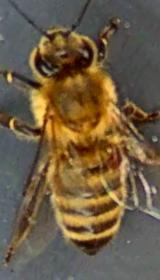varroa_mite: (92, 138, 133, 168)
